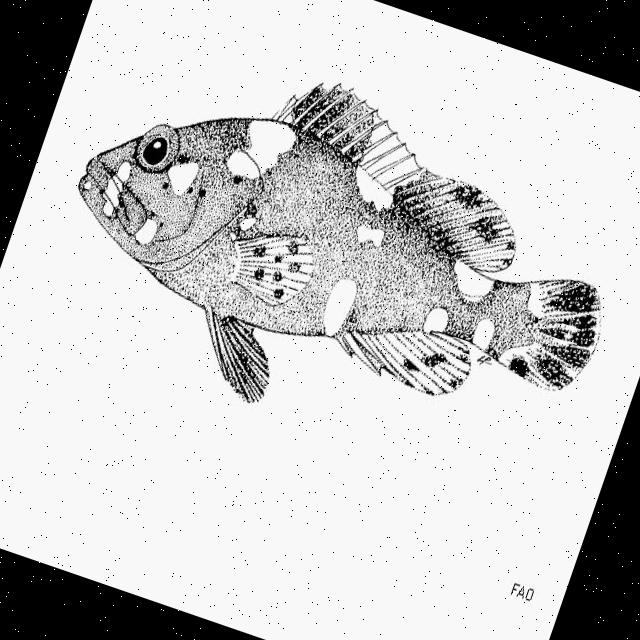ikan: (27, 10, 640, 504)
